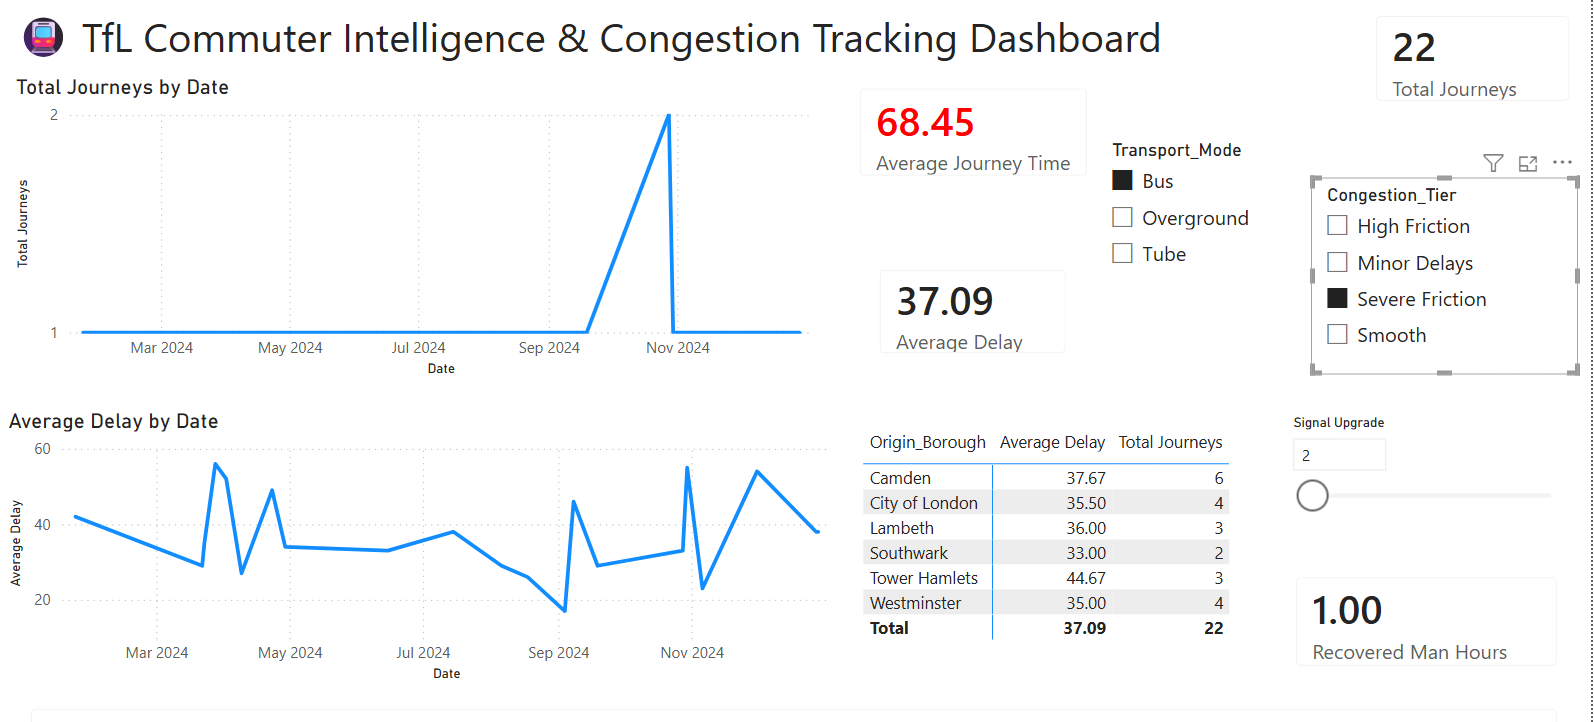

This screenshot's page, from the dashboard's own definition file:
{"tool":"powerbi","page":{"name":"Page 1","canvas":[1280,720],"ordinal":0},"visuals":[{"type":"cardVisual","fields":{"Data":["tfl_commuter tfl_commuter_trends.Total Journeys"]},"box":[1091.1,0,189.2,102.2],"z":0},{"type":"cardVisual","fields":{"Data":["tfl_commuter tfl_commuter_trends.Average Delay"]},"box":[694.3,203,183.1,100.7],"z":1000},{"type":"cardVisual","fields":{"Data":["tfl_commuter tfl_commuter_trends.Average Journey Time"]},"box":[677.5,58,216.7,103.8],"z":2000},{"type":"lineChart","fields":{"Category":["Calendar.Date"],"Y":["tfl_commuter tfl_commuter_trends.Total Journeys"]},"box":[15.3,62.6,662.3,247.2],"z":3000},{"type":"lineChart","fields":{"Category":["Calendar.Date"],"Y":["tfl_commuter tfl_commuter_trends.Average Delay"]},"box":[9.2,329.6,683.6,224.3],"z":4000},{"type":"slicer","fields":{"Values":["tfl_commuter tfl_commuter_trends.Transport_Mode"]},"box":[883.6,109.9,172.4,129.7],"z":5000},{"type":"slicer","fields":{"Values":["tfl_commuter tfl_commuter_trends.Congestion_Tier"]},"box":[1056,146.5,213.6,157.2],"z":6000},{"type":"pivotTable","fields":{"Rows":["tfl_commuter tfl_commuter_trends.Origin_Borough"],"Values":["tfl_commuter tfl_commuter_trends.Average Delay","tfl_commuter tfl_commuter_trends.Total Journeys"]},"box":[692.8,341.8,334.2,212.1],"z":7000},{"type":"slicer","fields":{"Values":["Signal Upgrade.Signal Upgrade"]},"box":[1028.5,329.6,242.6,103.8],"z":8000},{"type":"cardVisual","fields":{"Data":["tfl_commuter tfl_commuter_trends.Recovered Man Hours"]},"box":[1027,448.6,242.6,105.3],"z":9000},{"type":"cardVisual","fields":{"Data":["tfl_commuter tfl_commuter_trends.Narrative"]},"box":[15.3,553.9,1254.4,166.3],"z":10000},{"type":"textbox","box":[15.3,6.1,947.6,56.5],"z":10001}]}

Visuals, with their boxes on the page's 1280x720 design canvas (x1, y1, x2, y2). These are canvas units, not pixel positions in the 1594x722 screenshot, which may show the page scaled, cropped or inside an application window:
cardVisual - tfl_commuter tfl_commuter_trends.Total Journeys: [1091,0,1280,102]
cardVisual - tfl_commuter tfl_commuter_trends.Average Delay: [694,203,877,304]
cardVisual - tfl_commuter tfl_commuter_trends.Average Journey Time: [678,58,894,162]
lineChart - Calendar.Date x tfl_commuter tfl_commuter_trends.Total Journeys: [15,63,678,310]
lineChart - Calendar.Date x tfl_commuter tfl_commuter_trends.Average Delay: [9,330,693,554]
slicer - tfl_commuter tfl_commuter_trends.Transport_Mode: [884,110,1056,240]
slicer - tfl_commuter tfl_commuter_trends.Congestion_Tier: [1056,146,1270,304]
pivotTable - tfl_commuter tfl_commuter_trends.Origin_Borough x tfl_commuter tfl_commuter_trends.Average Delay: [693,342,1027,554]
slicer - Signal Upgrade.Signal Upgrade: [1028,330,1271,433]
cardVisual - tfl_commuter tfl_commuter_trends.Recovered Man Hours: [1027,449,1270,554]
cardVisual - tfl_commuter tfl_commuter_trends.Narrative: [15,554,1270,720]
textbox: [15,6,963,63]
